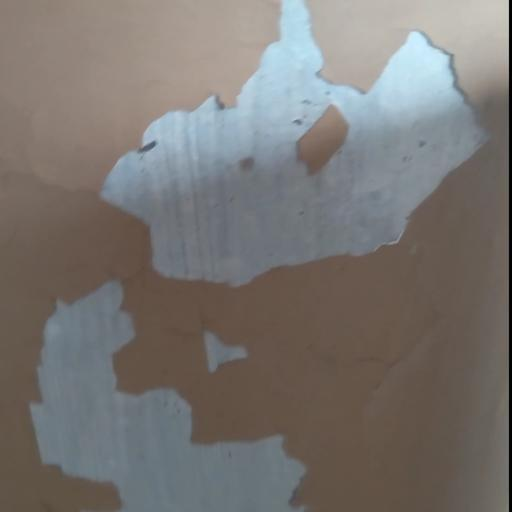peeling: (91, 0, 512, 291), (19, 278, 328, 512)
